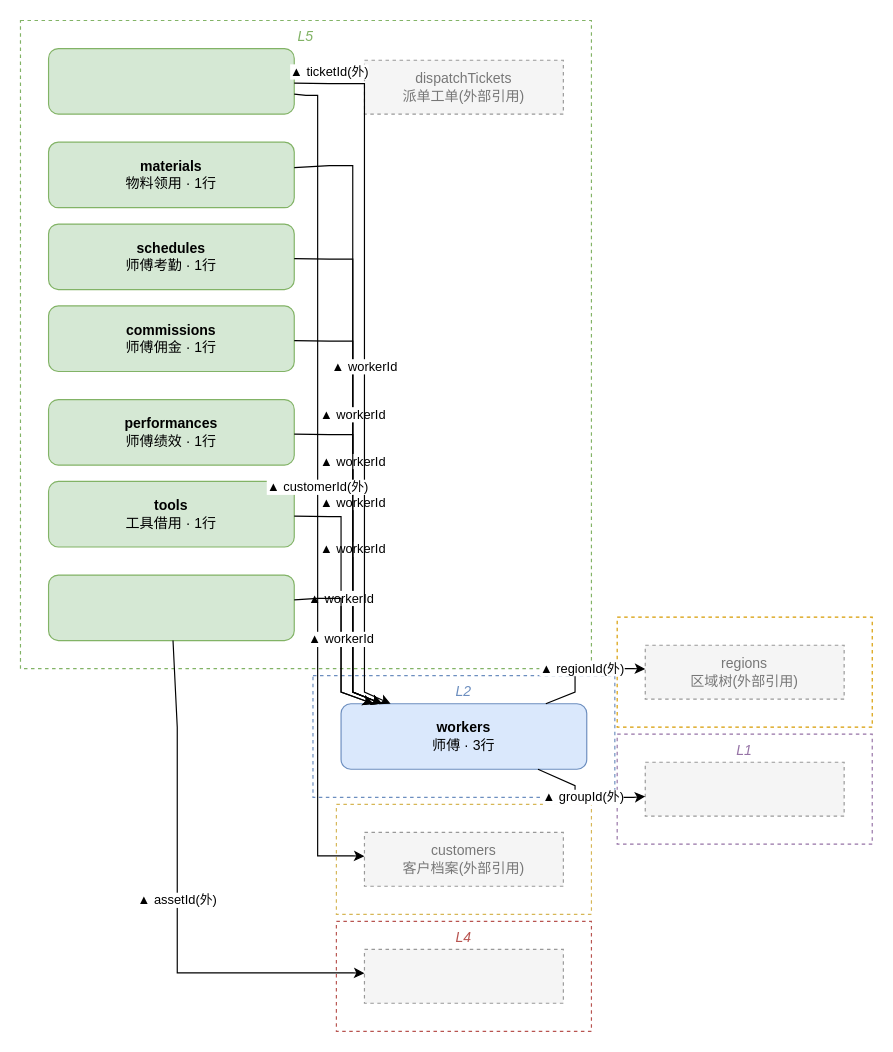
Image size: 893x1052. Some labels were removed from this diagram. The box of each missing label's shape, as (x1, y1, x2, y2) in pixels:
assetReturns 资产归还 · 1行: (47, 574, 294, 641)
assets 资产台账(外部引用): (363, 948, 563, 1003)
feedbacks 服务评价 · 1行: (47, 47, 294, 114)
L0: (616, 616, 872, 727)
L3: (335, 803, 591, 914)
workerGroups 师傅班组(外部引用): (644, 761, 844, 816)
